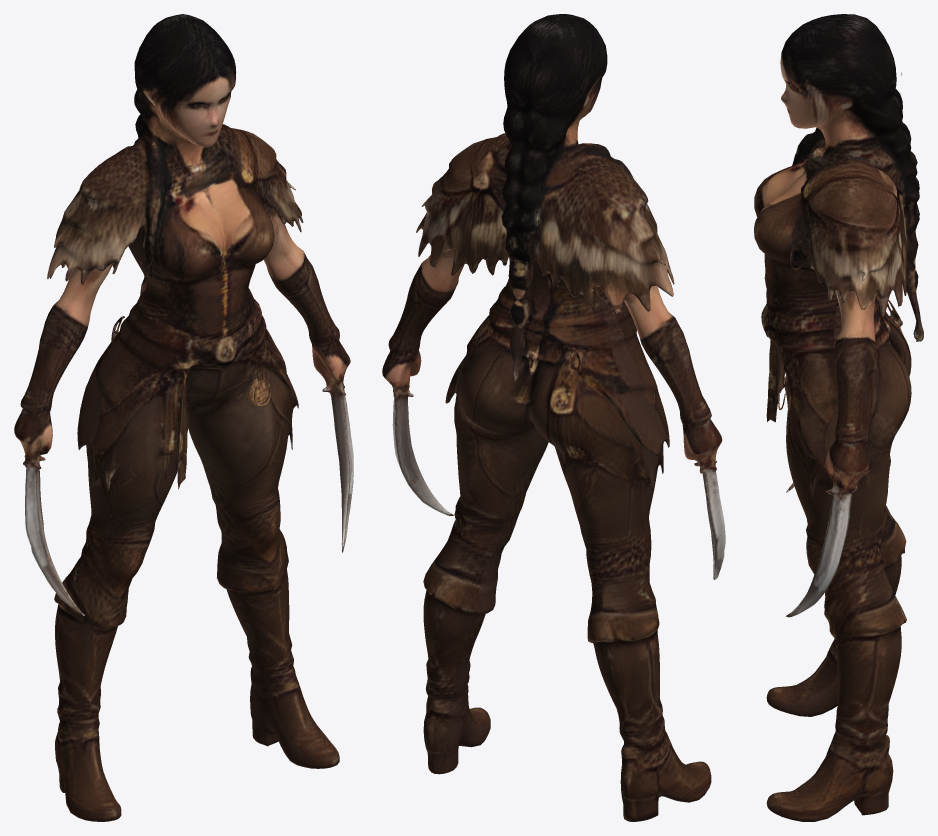
File: kestrel-rodin.glb
The picture shows the model from 3 angles, left to right: view 1: azimuth 30°, elevation 25°; view 2: azimuth 150°, elevation 25°; view 3: azimuth 270°, elevation 25°; orthographic projection. The views are drawn at different scales.
Visible parts, largest first — view 1: model; view 2: model; view 3: model.
Boxes of the visible parts, x1=… form: model: x1=14, y1=14, x2=353, y2=821; model: x1=382, y1=14, x2=725, y2=821; model: x1=754, y1=14, x2=923, y2=821.
Size of the model in its own units: 0.8648 by 1.9 by 0.3933.
1 material, 1 textured.
